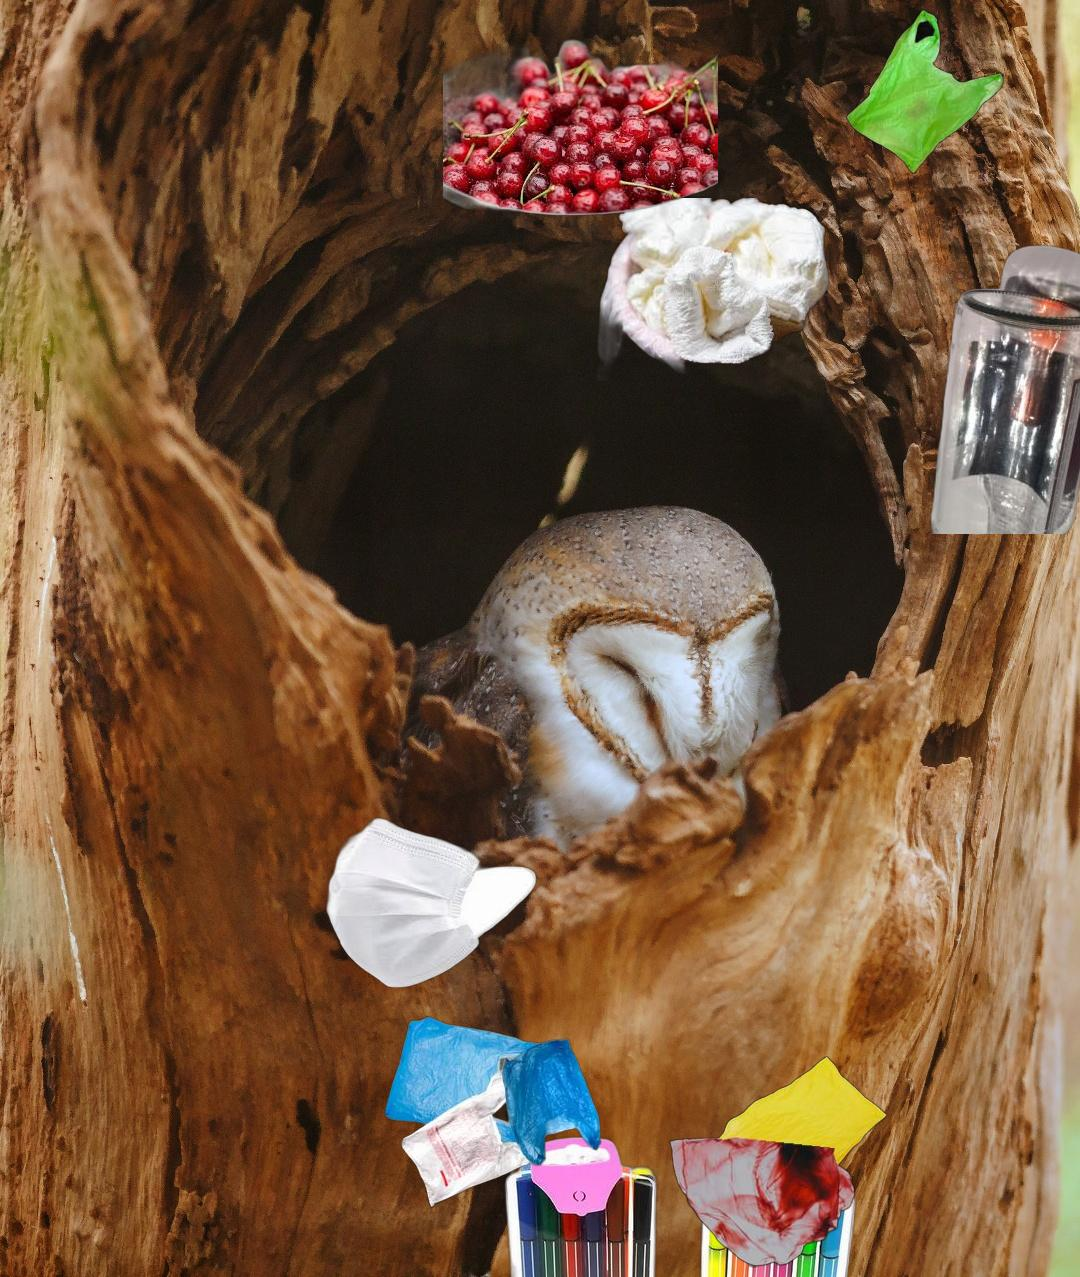biological: (442, 33, 718, 216)
glass: (926, 241, 1080, 534)
penholder: (501, 1116, 861, 1277)
plastic-bag: (667, 1053, 890, 1271), (382, 1016, 602, 1210), (843, 7, 1007, 175)
trash: (589, 198, 832, 381), (322, 814, 539, 991)
